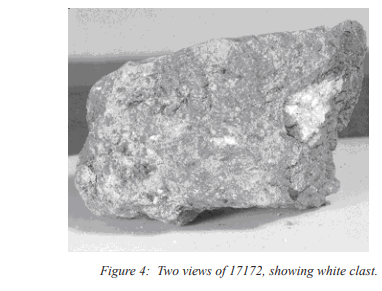Breccia: (68, 20, 359, 240)
